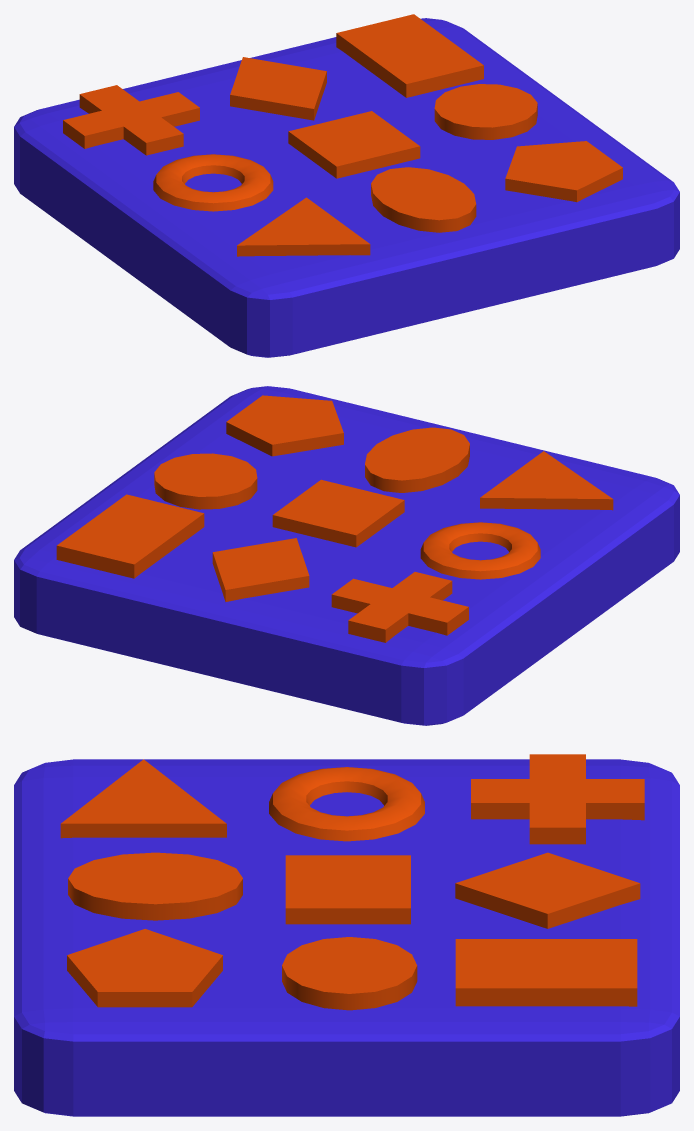
File: PuzzleGame.fbx
3 renders of one model, top to bottom at view 1: azimuth 30°, elevation 25°; view 2: azimuth 150°, elevation 25°; view 3: azimuth 270°, elevation 25°, orthographic. The views are drawn at different scales.
Parts seen in each view (by area): view 1: Board, Long Rect, Plus, Cube, Oval, Penta, Circle, Donut, Triangle, Ketupat; view 2: Board, Long Rect, Plus, Cube, Oval, Penta, Circle, Donut, Triangle, Ketupat; view 3: Board, Long Rect, Plus, Oval, Penta, Cube, Ketupat, Circle, Donut, Triangle.
Boxes of the visible parts, x1=… form: Board: x1=14, y1=18, x2=679, y2=357; Long Rect: x1=336, y1=14, x2=483, y2=97; Plus: x1=63, y1=85, x2=199, y2=155; Cube: x1=288, y1=111, x2=420, y2=178; Oval: x1=371, y1=167, x2=476, y2=232; Penta: x1=505, y1=141, x2=622, y2=202; Circle: x1=434, y1=84, x2=537, y2=139; Donut: x1=153, y1=154, x2=273, y2=211; Triangle: x1=237, y1=197, x2=370, y2=256; Ketupat: x1=230, y1=57, x2=326, y2=120; Board: x1=14, y1=386, x2=679, y2=725; Long Rect: x1=56, y1=494, x2=204, y2=578; Plus: x1=331, y1=572, x2=468, y2=642; Cube: x1=272, y1=479, x2=404, y2=547; Oval: x1=365, y1=427, x2=469, y2=492; Penta: x1=226, y1=395, x2=343, y2=456; Circle: x1=154, y1=453, x2=257, y2=509; Donut: x1=420, y1=522, x2=540, y2=579; Triangle: x1=480, y1=451, x2=613, y2=510; Ketupat: x1=212, y1=538, x2=309, y2=601; Board: x1=14, y1=759, x2=679, y2=1116; Long Rect: x1=455, y1=939, x2=637, y2=1006; Plus: x1=471, y1=754, x2=644, y2=844; Oval: x1=68, y1=852, x2=242, y2=920; Penta: x1=67, y1=929, x2=222, y2=1007; Cube: x1=285, y1=855, x2=410, y2=924; Ketupat: x1=455, y1=852, x2=640, y2=928; Circle: x1=282, y1=937, x2=417, y2=1010; Donut: x1=269, y1=767, x2=424, y2=841; Triangle: x1=60, y1=759, x2=226, y2=838.
Bounding box in the file's own units: 696 × 125 × 696.
